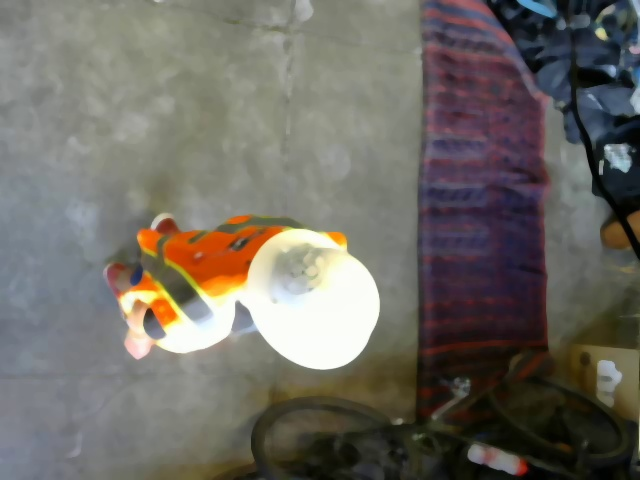eight: (280, 248, 326, 294)
